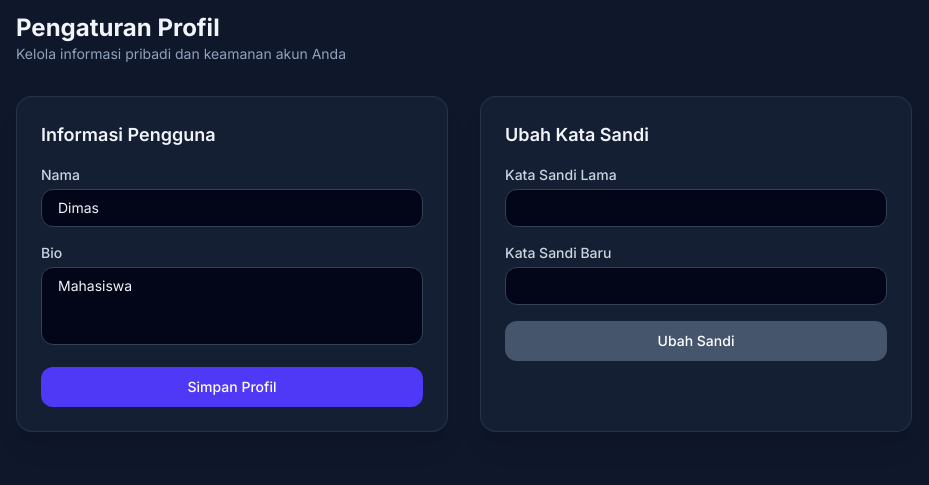
ProfilePage › berhasil memperbarui profil
Replace the text in the field labelled "Nama" with "Dimas Baru": (232, 208) top-left (41, 189), bottom-right (423, 227)
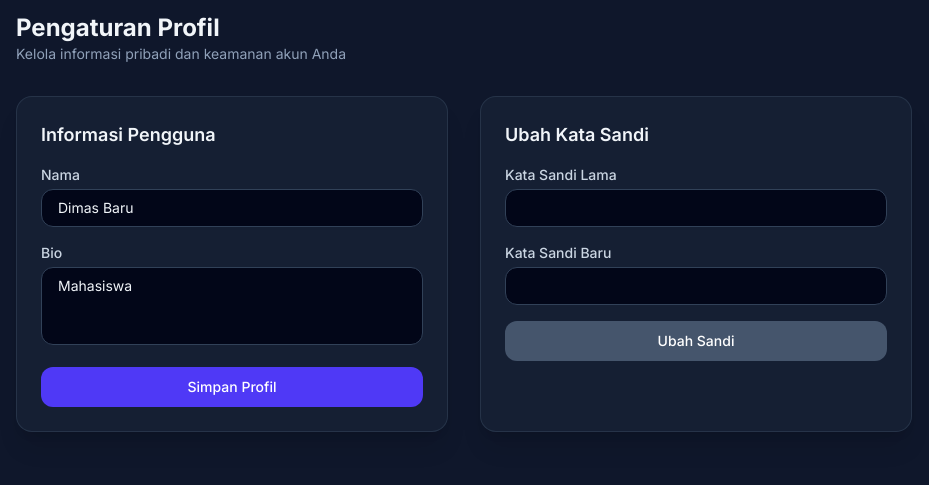
Replace the text in the text box labelled "Bio" with "Bio edit": (232, 306) top-left (41, 267), bottom-right (423, 345)
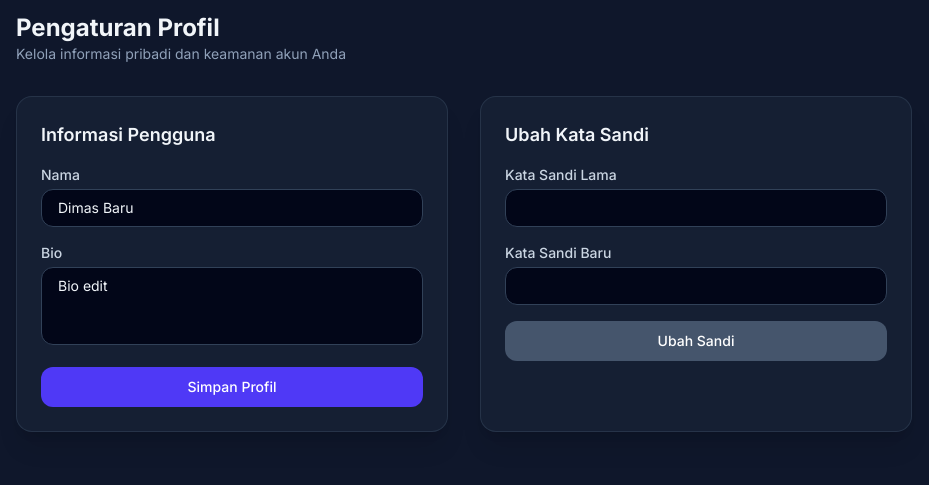
Click the button "Simpan Profil": click(232, 387) top-left (41, 367), bottom-right (423, 407)
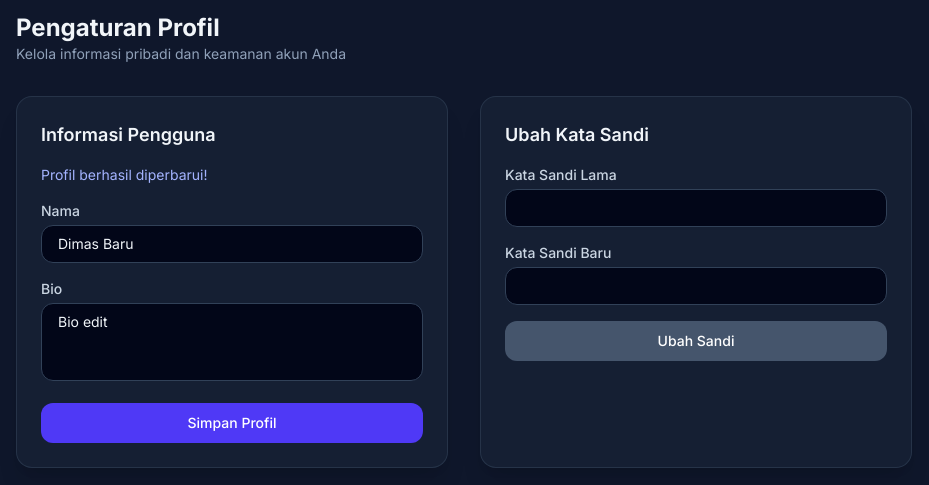
Result: the text "Profil berhasil diperbarui!" is shown at top-left (41, 166), bottom-right (208, 183)
